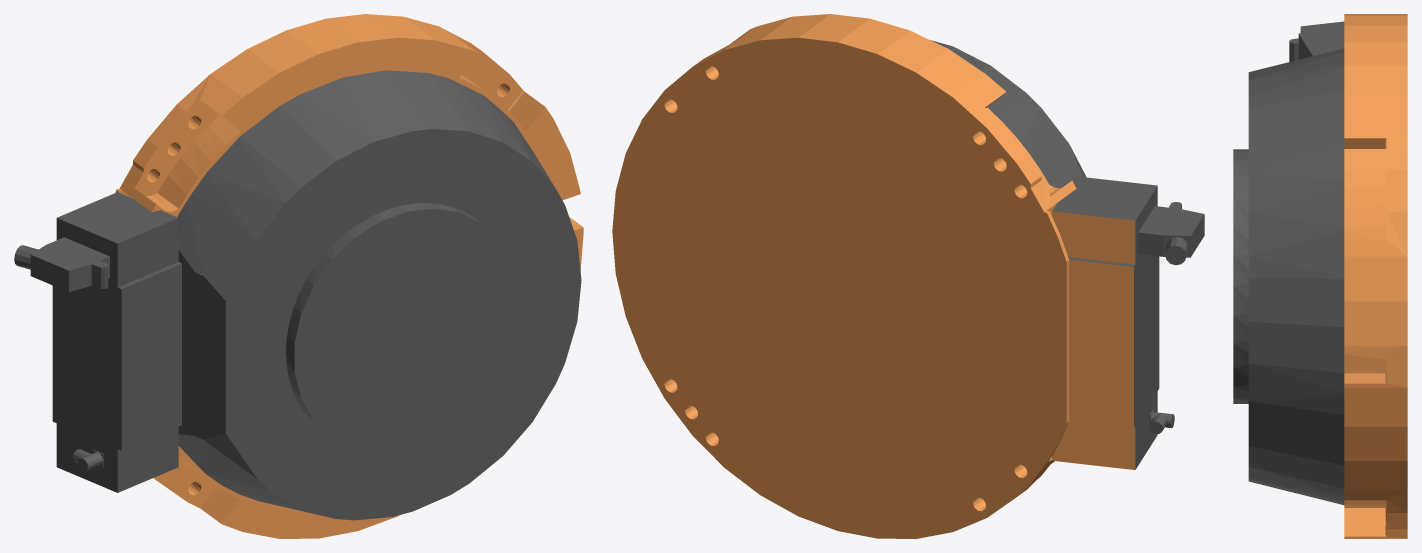
File: BaseLink.glb
3 views of the same model, side by side, from view 1: azimuth 30°, elevation 25°; view 2: azimuth 150°, elevation 25°; view 3: azimuth 270°, elevation 25° (orthographic). The views are drawn at different scales.
Visible parts, largest first — view 1: /SketchUp/instance_0_003/ID24_001-mesh/0, /SketchUp/instance_0_002/ID18_001-mesh/0, /SketchUp/instance_0_006/ID44_002-mesh/0, /SketchUp/instance_0_004/ID30_001-mesh/0; view 2: /SketchUp/instance_0_006/ID44_002-mesh/0, /SketchUp/instance_0_003/ID24_001-mesh/0, /SketchUp/instance_0_007/ID50_002-mesh/0, /SketchUp/instance_0_004/ID30_001-mesh/0; view 3: /SketchUp/instance_0_003/ID24_001-mesh/0, /SketchUp/instance_0_006/ID44_002-mesh/0, /SketchUp/instance_0_002/ID18_001-mesh/0, /SketchUp/instance_0_004/ID30_001-mesh/0.
Boxes of the visible parts, bbox=[...] form: /SketchUp/instance_0_003/ID24_001-mesh/0: bbox=[52, 70, 581, 520]; /SketchUp/instance_0_002/ID18_001-mesh/0: bbox=[286, 203, 519, 451]; /SketchUp/instance_0_006/ID44_002-mesh/0: bbox=[115, 14, 583, 538]; /SketchUp/instance_0_004/ID30_001-mesh/0: bbox=[30, 237, 109, 291]; /SketchUp/instance_0_006/ID44_002-mesh/0: bbox=[612, 14, 1135, 538]; /SketchUp/instance_0_003/ID24_001-mesh/0: bbox=[931, 40, 1159, 469]; /SketchUp/instance_0_007/ID50_002-mesh/0: bbox=[1052, 421, 1135, 469]; /SketchUp/instance_0_004/ID30_001-mesh/0: bbox=[1138, 202, 1204, 257]; /SketchUp/instance_0_003/ID24_001-mesh/0: bbox=[1248, 28, 1344, 504]; /SketchUp/instance_0_006/ID44_002-mesh/0: bbox=[1344, 14, 1407, 538]; /SketchUp/instance_0_002/ID18_001-mesh/0: bbox=[1233, 149, 1248, 403]; /SketchUp/instance_0_004/ID30_001-mesh/0: bbox=[1289, 21, 1344, 61].
Size of the model in its own units: 1.19 by 0.9994 by 0.331.
